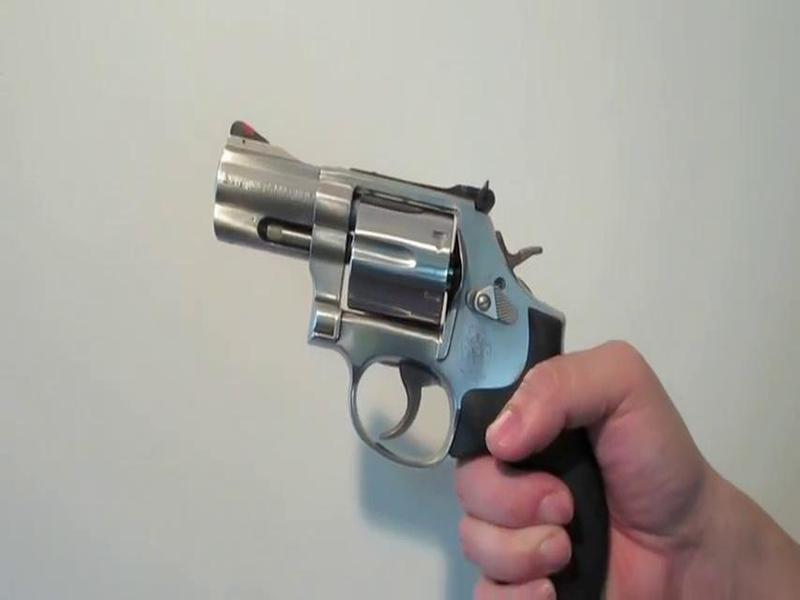Revolver: (205, 114, 645, 600)
